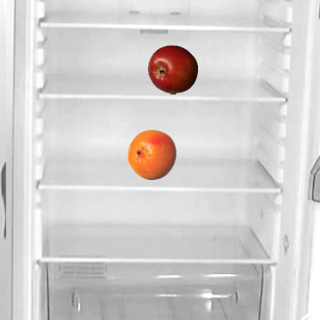Apple Braeburn: (147, 44, 197, 94)
Grapefruit Pink: (126, 129, 176, 179)
